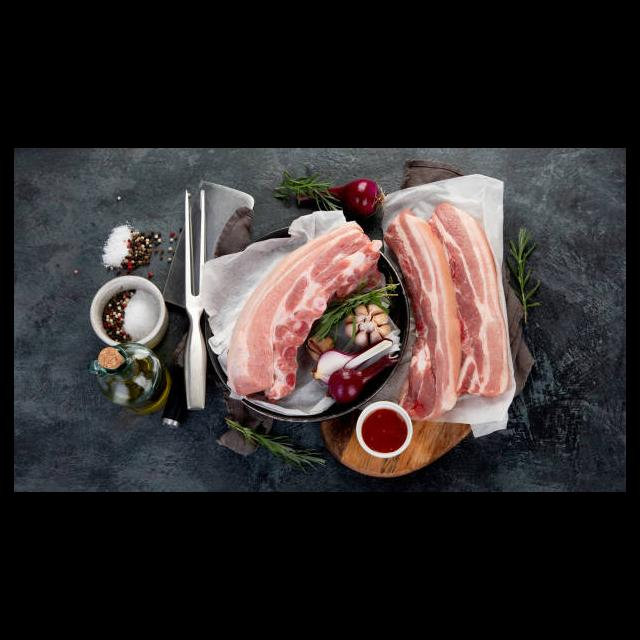pork: (402, 207, 508, 413), (233, 299, 298, 401), (286, 227, 373, 294)
